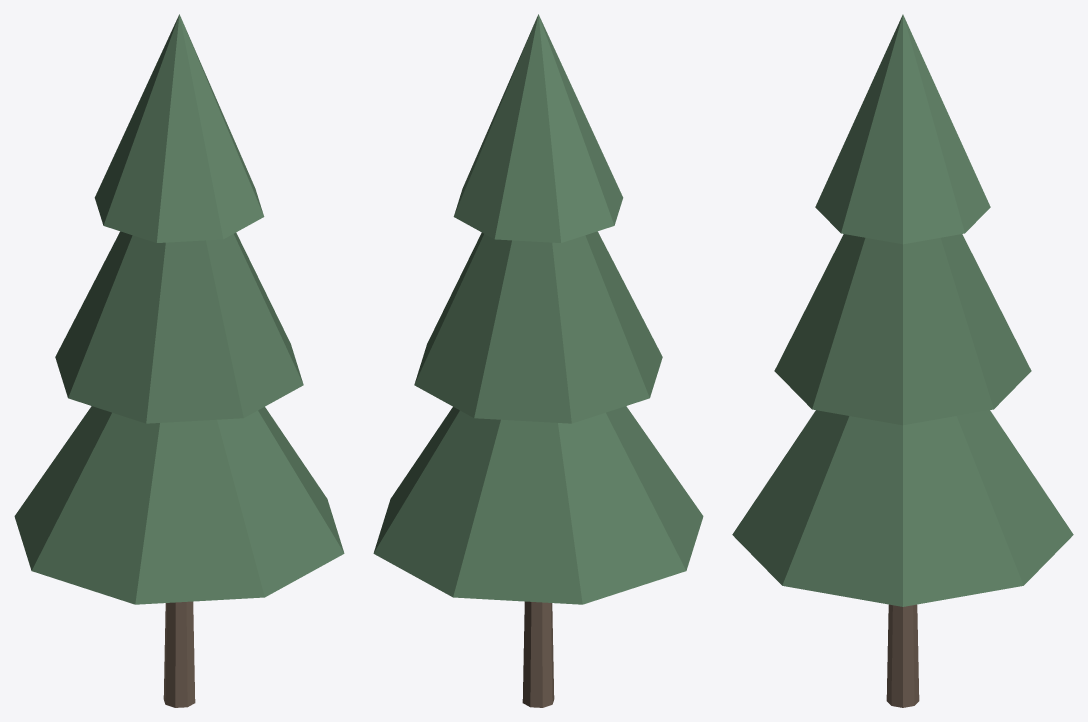
Rendered from env_tree_pine_a_lod0.glb.
3 renders of one model, left to right at view 1: azimuth 30°, elevation 25°; view 2: azimuth 150°, elevation 25°; view 3: azimuth 270°, elevation 25°, orthographic.
Parts seen in each view (by area): view 1: pine_0; view 2: pine_0; view 3: pine_0.
Part boxes in pixels (bbox=[...]): pine_0: bbox=[14, 14, 344, 707]; pine_0: bbox=[373, 14, 703, 707]; pine_0: bbox=[732, 14, 1073, 707].
Size of the model in its own units: 5.08 by 11.28 by 5.08.
